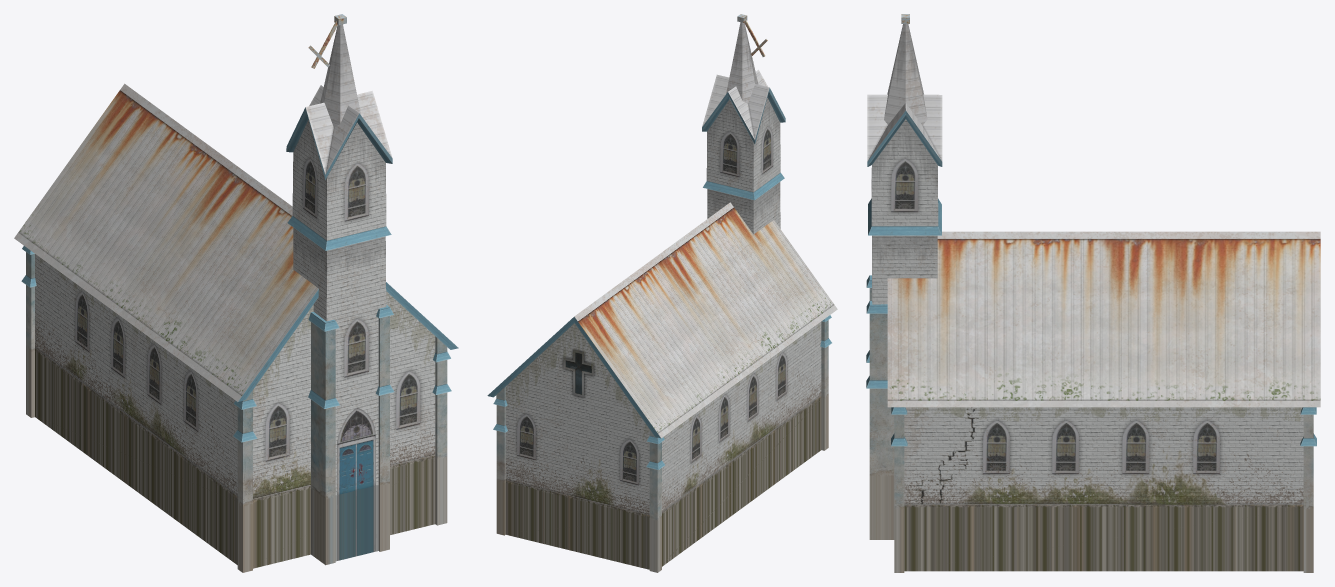
The model's file is Church - Separated.fbx.
3 views of the same model, side by side, from view 1: azimuth 30°, elevation 25°; view 2: azimuth 150°, elevation 25°; view 3: azimuth 270°, elevation 25° (orthographic). The views are drawn at different scales.
Visible parts, largest first — view 1: Church, Door_Left, Door_Right; view 2: Church; view 3: Church.
Part boxes in pixels (x1,y1,x2,y2): Church: (14, 14, 458, 572); Door_Left: (339, 444, 355, 494); Door_Right: (357, 439, 373, 490); Church: (487, 14, 837, 572); Church: (866, 14, 1320, 572).
Bounding box in the file's own units: 4.76 × 10.84 × 8.77.
